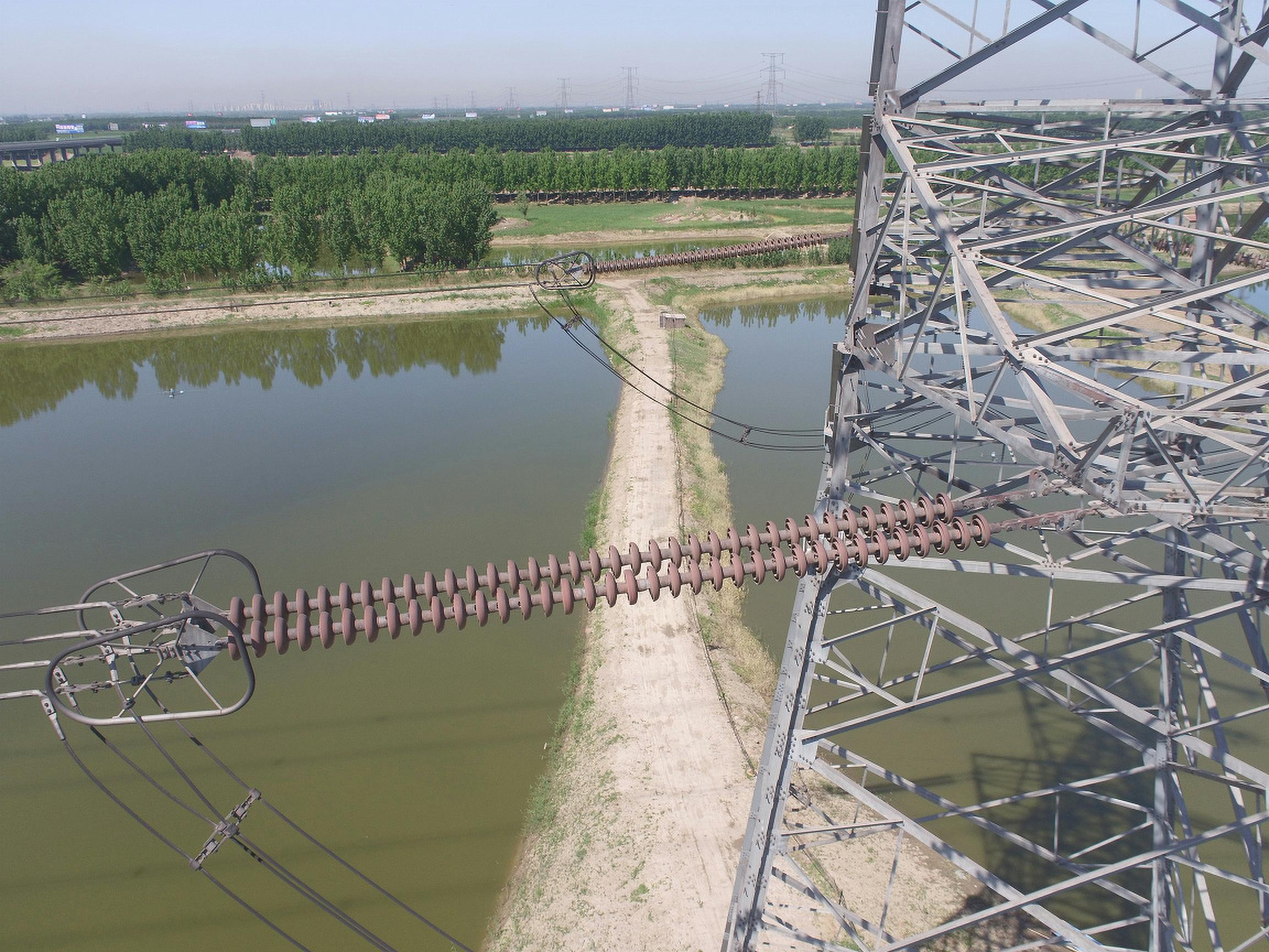insulator: (220, 488, 995, 664), (582, 230, 827, 277)
